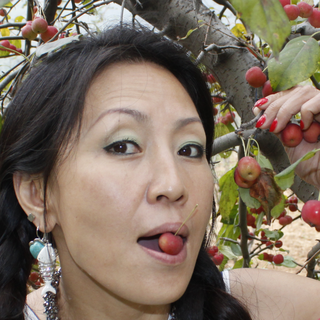eye: (96, 133, 147, 160), (168, 135, 206, 163)
